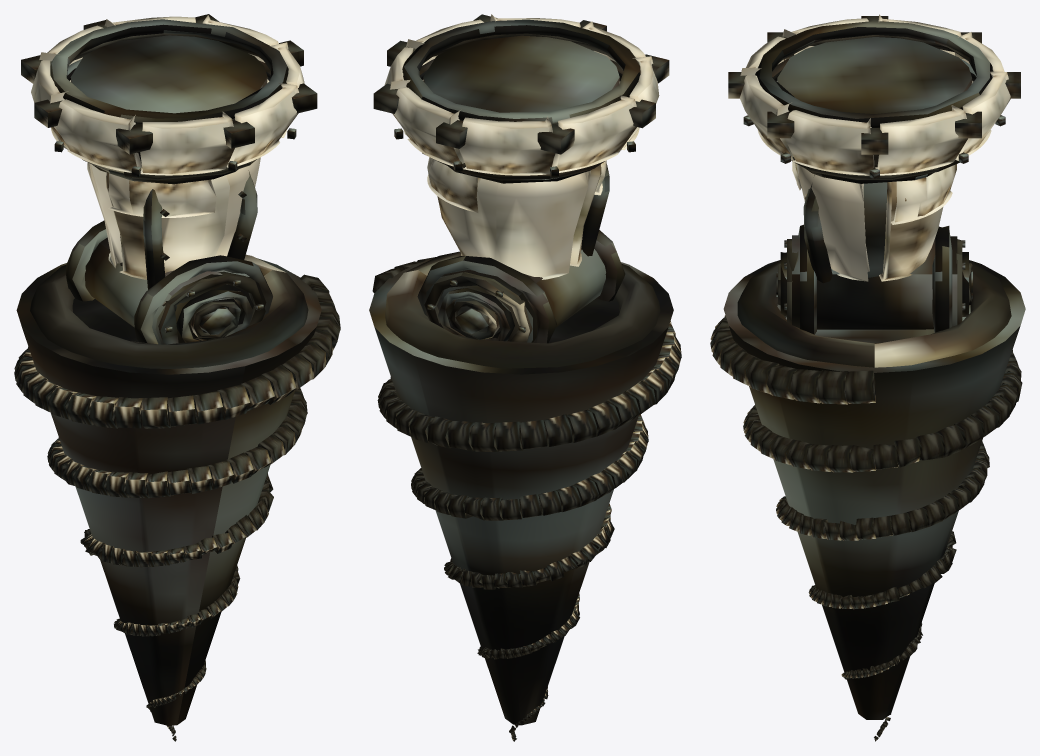
Rendered from arm-drill-icon-v1.glb.
3 renders of one model, left to right at view 1: azimuth 30°, elevation 25°; view 2: azimuth 150°, elevation 25°; view 3: azimuth 270°, elevation 25°, orthographic.
Visible parts, largest first — view 1: arm-drill-icon-v1-steel, arm-drill-icon-v1-brass, arm-drill-icon-v1-ceramic; view 2: arm-drill-icon-v1-steel, arm-drill-icon-v1-brass, arm-drill-icon-v1-ceramic; view 3: arm-drill-icon-v1-steel, arm-drill-icon-v1-brass, arm-drill-icon-v1-ceramic.
Boxes of the visible parts, left/top/right/bottom form: arm-drill-icon-v1-steel: left=16, top=19, right=321, bottom=725; arm-drill-icon-v1-brass: left=14, top=14, right=340, bottom=741; arm-drill-icon-v1-ceramic: left=31, top=15, right=304, bottom=279; arm-drill-icon-v1-steel: left=369, top=19, right=673, bottom=725; arm-drill-icon-v1-brass: left=372, top=14, right=681, bottom=741; arm-drill-icon-v1-ceramic: left=384, top=14, right=659, bottom=279; arm-drill-icon-v1-steel: left=723, top=21, right=1025, bottom=719; arm-drill-icon-v1-brass: left=710, top=16, right=1022, bottom=741; arm-drill-icon-v1-ceramic: left=740, top=14, right=1010, bottom=281.
Bounding box in the file's own units: 0.4966 × 1.12 × 0.4804.
1 material, 1 textured.
